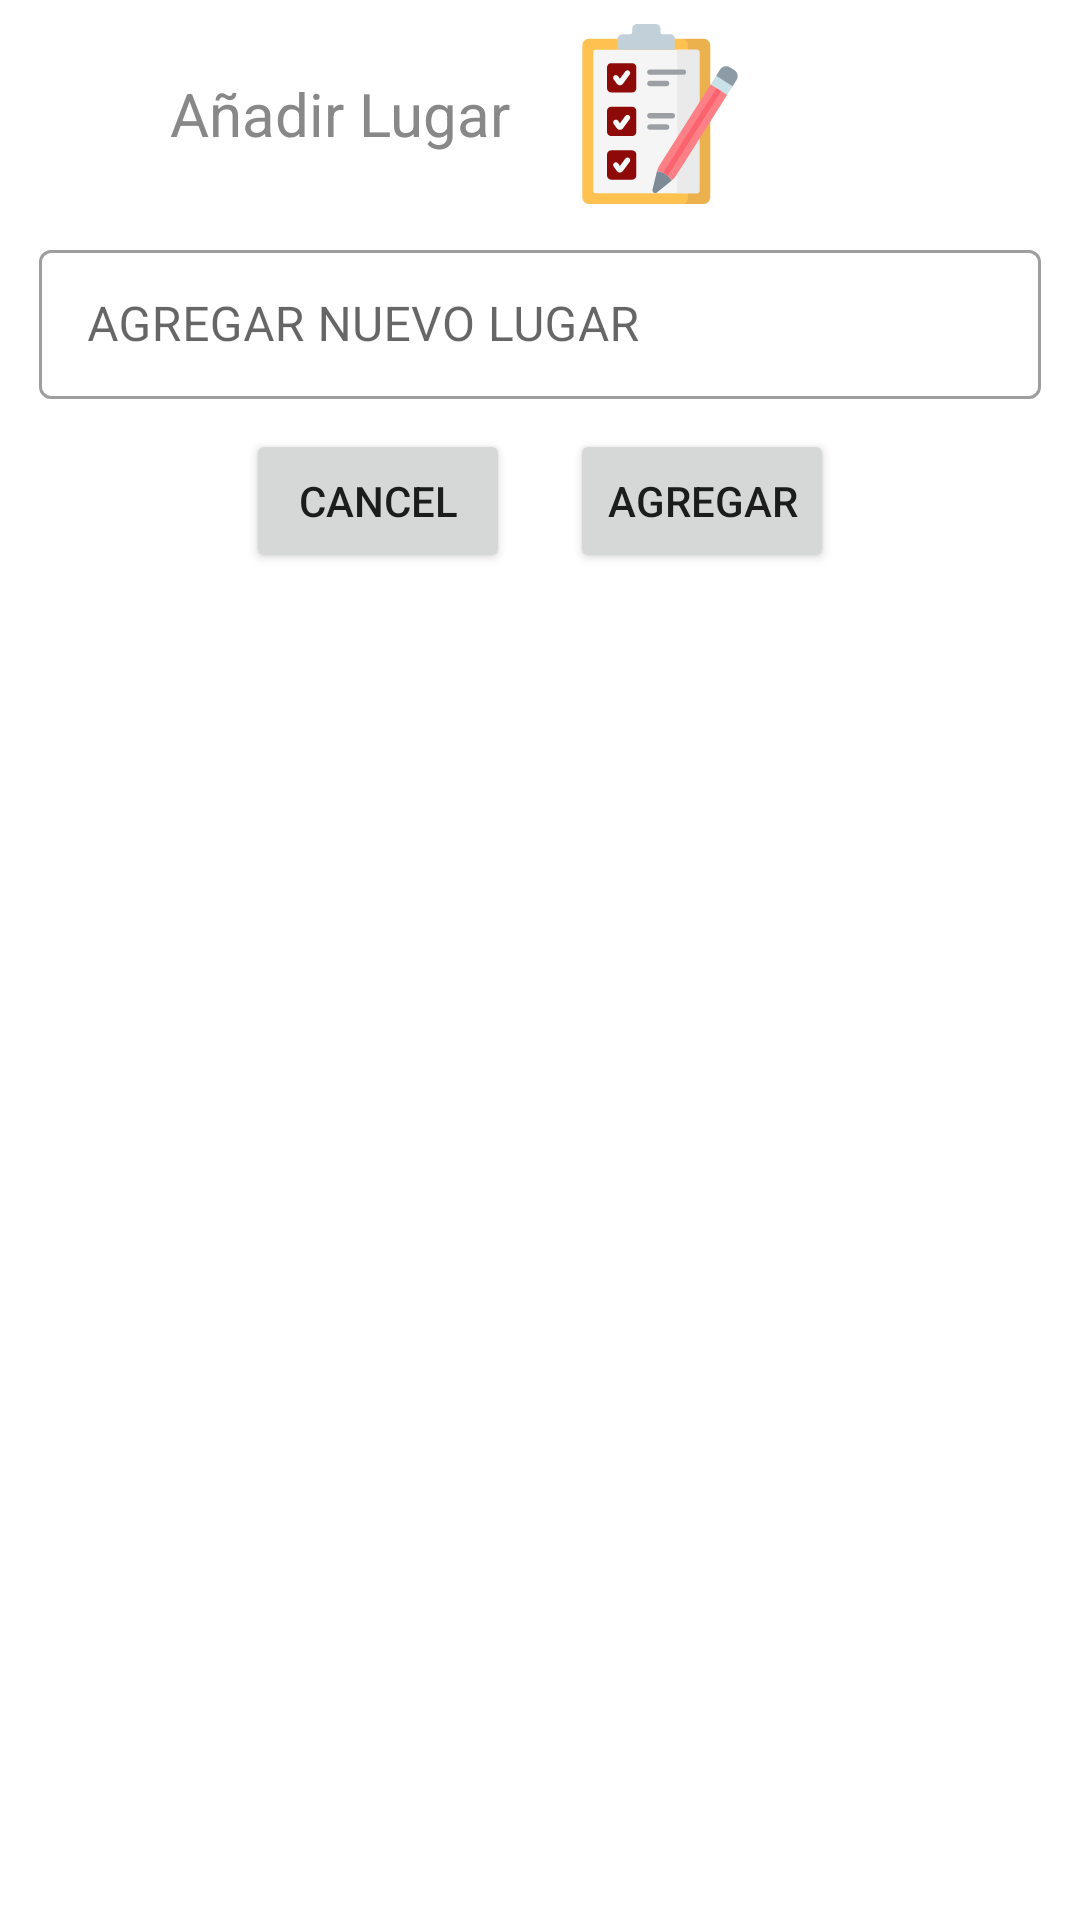

Icons on this 1080x1920 Android screen, each with the point to tap as point (x, y):
check document: point (660, 114)
